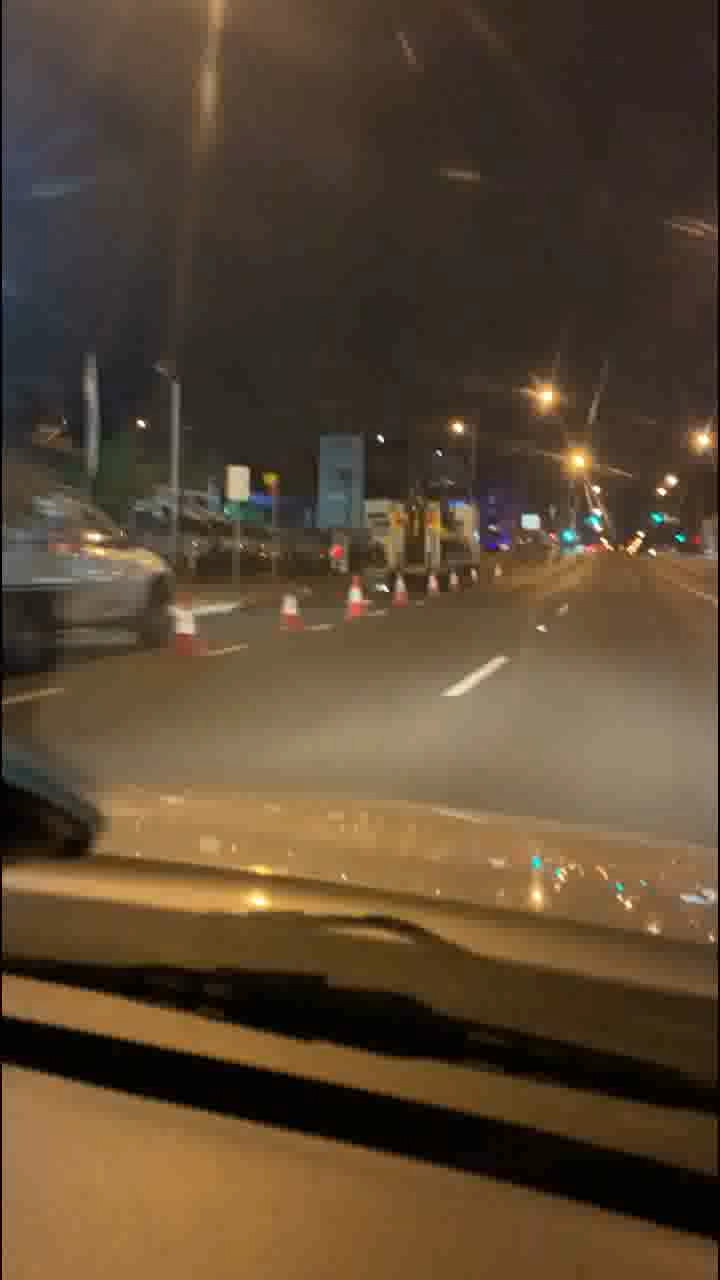road cone: (355, 498, 493, 582), (277, 581, 305, 630)
truck: (8, 463, 177, 648)
